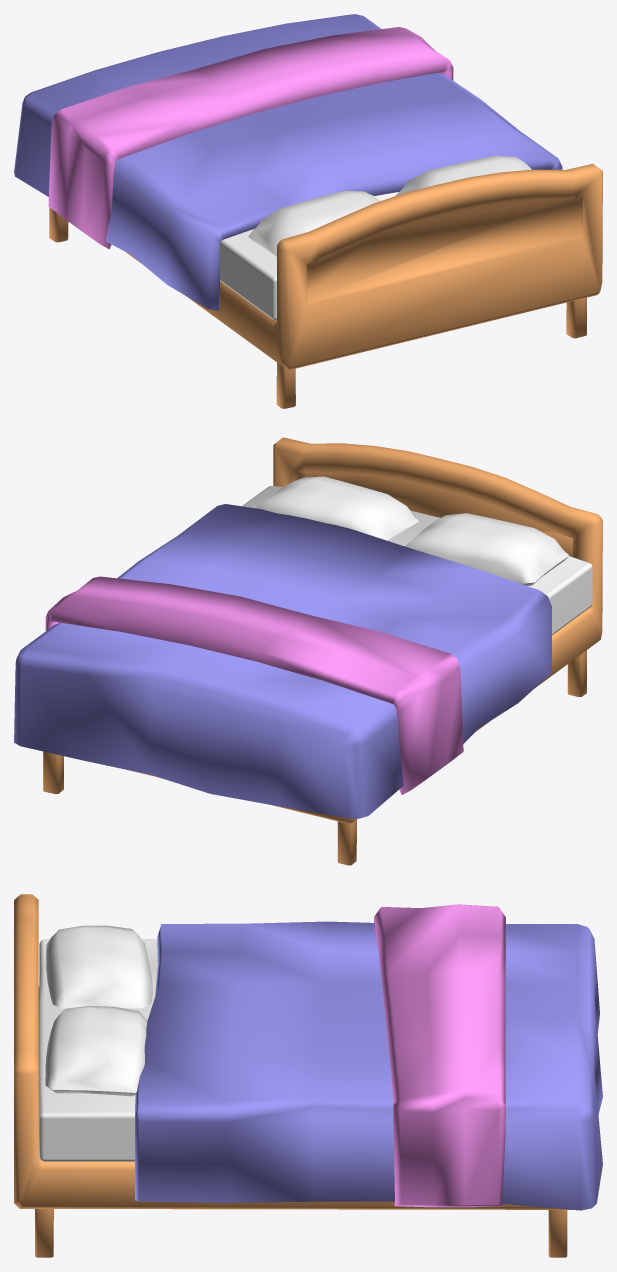
Rendered from Bed_Queen.glb.
3 renders of one model, top to bottom at view 1: azimuth 30°, elevation 25°; view 2: azimuth 150°, elevation 25°; view 3: azimuth 270°, elevation 25°, orthographic. The views are drawn at different scales.
Visible parts, largest first — view 1: Bed_Queen; view 2: Bed_Queen; view 3: Bed_Queen.
Part boxes in pixels (box(x1,y1,x2,y2)): Bed_Queen: box(14, 14, 602, 408); Bed_Queen: box(14, 437, 602, 865); Bed_Queen: box(14, 894, 602, 1257).
Bounding box in the file's own units: 1.9 × 0.9459 × 2.37.
Materials: 1 (1 with a texture image).
